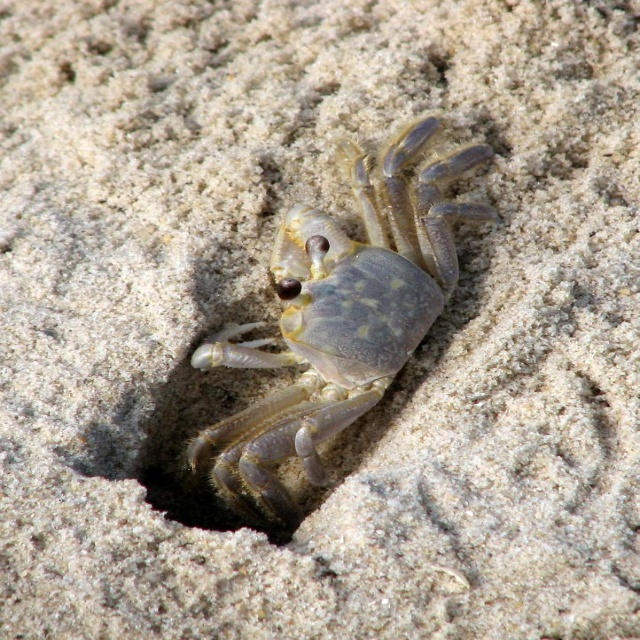Crab: (176, 113, 512, 528)
